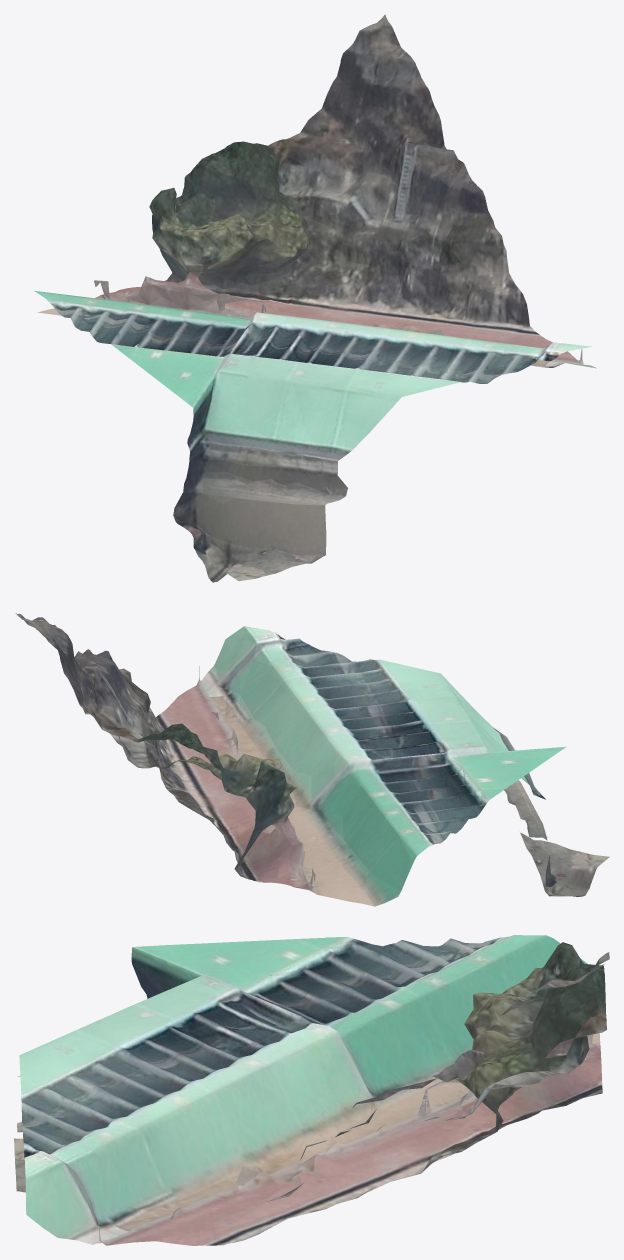
File: Tile_+011_+008_L20_000002010.glb
3 renders of one model, top to bottom at view 1: azimuth 30°, elevation 25°; view 2: azimuth 150°, elevation 25°; view 3: azimuth 270°, elevation 25°, orthographic. The views are drawn at different scales.
Parts seen in each view (by area): view 1: rtc; view 2: rtc; view 3: rtc.
Part boxes in pixels (x1,y1,x2,y2): rtc: (34, 14, 596, 582); rtc: (15, 613, 609, 906); rtc: (14, 935, 609, 1245).
Size of the model in its own units: 32.13 by 26.83 by 32.13.
Materials: 1 (1 with a texture image).
